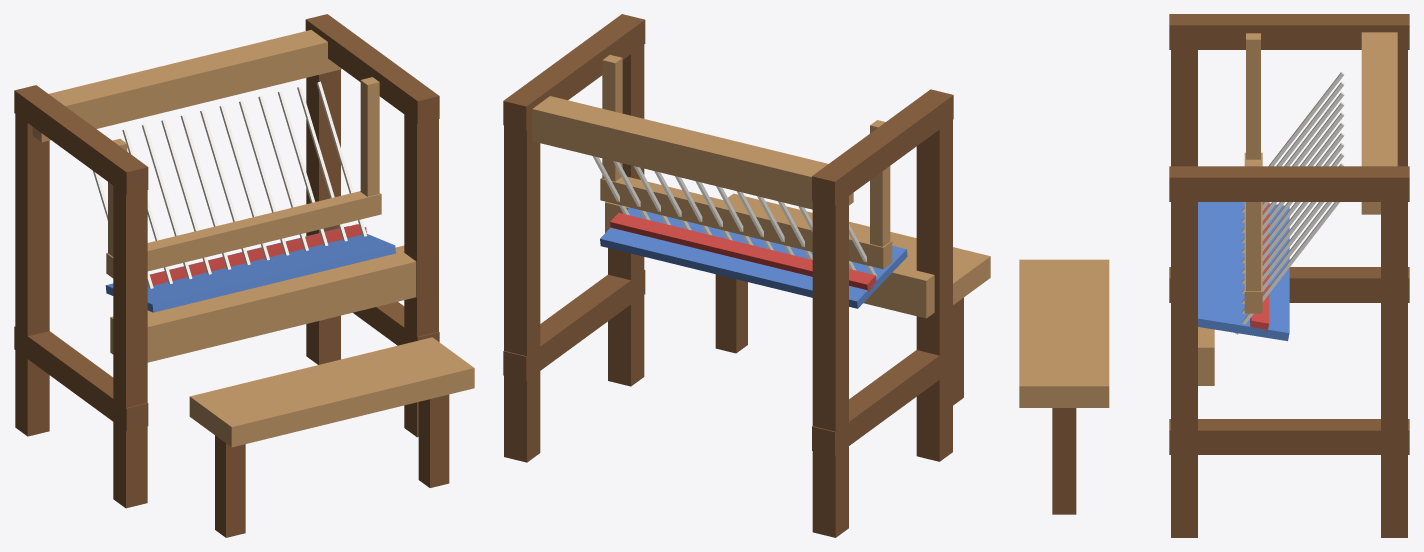
Rendered from loom.obj.
3 renders of one model, left to right at view 1: azimuth 30°, elevation 25°; view 2: azimuth 150°, elevation 25°; view 3: azimuth 270°, elevation 25°, orthographic. The views are drawn at different scales.
Parts seen in each view (by area): view 1: frame, beater; view 2: frame, beater; view 3: frame, beater.
Boxes of the visible parts, x1,y1,x2,y2 form: frame: (14,14,474,537); beater: (106,77,381,278); frame: (503,14,990,537); beater: (600,55,892,269); frame: (1019,14,1409,537); beater: (1244,33,1262,313).
Size of the model in its own units: 1.29 by 1.33 by 1.3.
